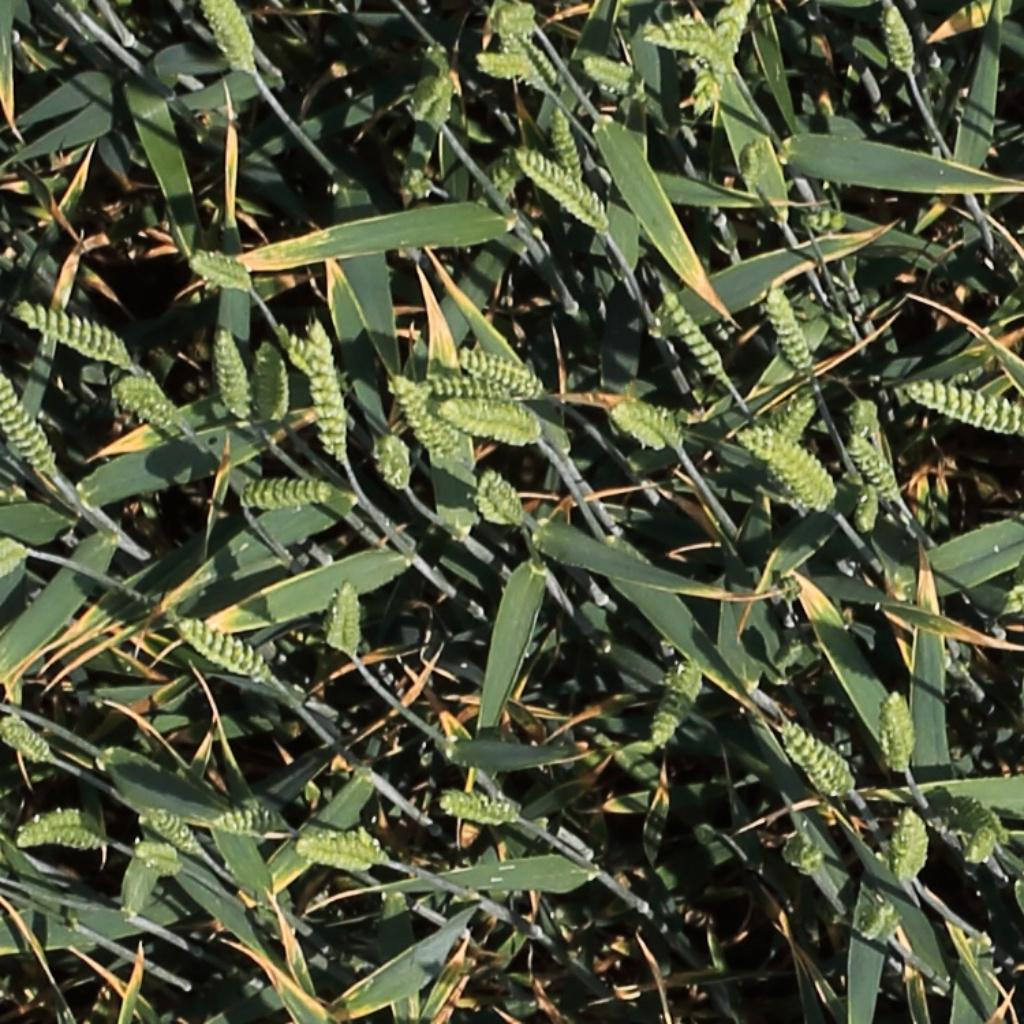0-0: (516, 146, 610, 229), (656, 283, 733, 383), (387, 370, 466, 466), (15, 303, 131, 363), (0, 365, 60, 480), (741, 432, 834, 505), (308, 319, 352, 460), (271, 319, 349, 396), (178, 618, 271, 681), (780, 720, 856, 797), (595, 380, 679, 449), (905, 382, 1022, 431), (639, 16, 735, 74), (651, 656, 707, 752), (765, 278, 817, 376), (494, 22, 561, 97), (849, 430, 909, 509), (202, 0, 259, 80), (289, 824, 389, 869), (458, 346, 546, 395), (212, 323, 253, 424), (234, 472, 351, 507), (17, 801, 97, 851), (114, 383, 189, 435), (468, 50, 547, 96), (438, 404, 542, 438), (429, 787, 524, 824), (548, 99, 588, 185), (476, 466, 529, 529), (582, 57, 653, 101), (882, 1, 921, 79), (143, 809, 204, 858), (953, 795, 1010, 847), (886, 686, 918, 775), (778, 389, 821, 453), (252, 334, 282, 424), (0, 719, 55, 767), (898, 802, 927, 892), (208, 805, 292, 836), (188, 249, 253, 289), (378, 427, 413, 495), (715, 0, 756, 58), (860, 892, 905, 944), (421, 69, 458, 131), (334, 577, 360, 662), (856, 473, 883, 542), (424, 379, 510, 400), (963, 821, 999, 871), (131, 842, 184, 875), (401, 159, 438, 200), (0, 543, 27, 598), (744, 132, 768, 189)
